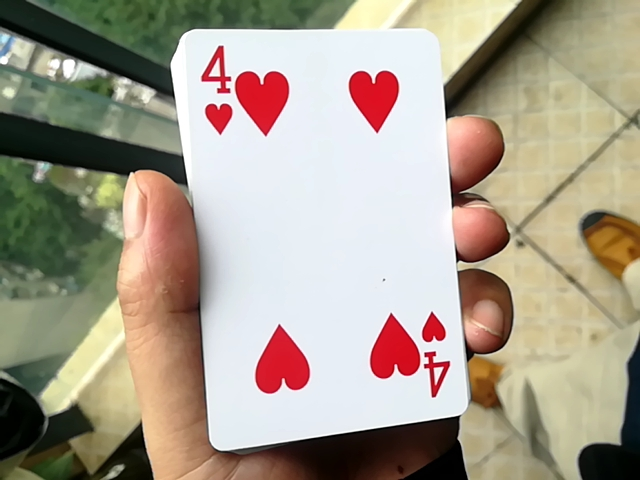hx 4: (150, 25, 467, 445)
